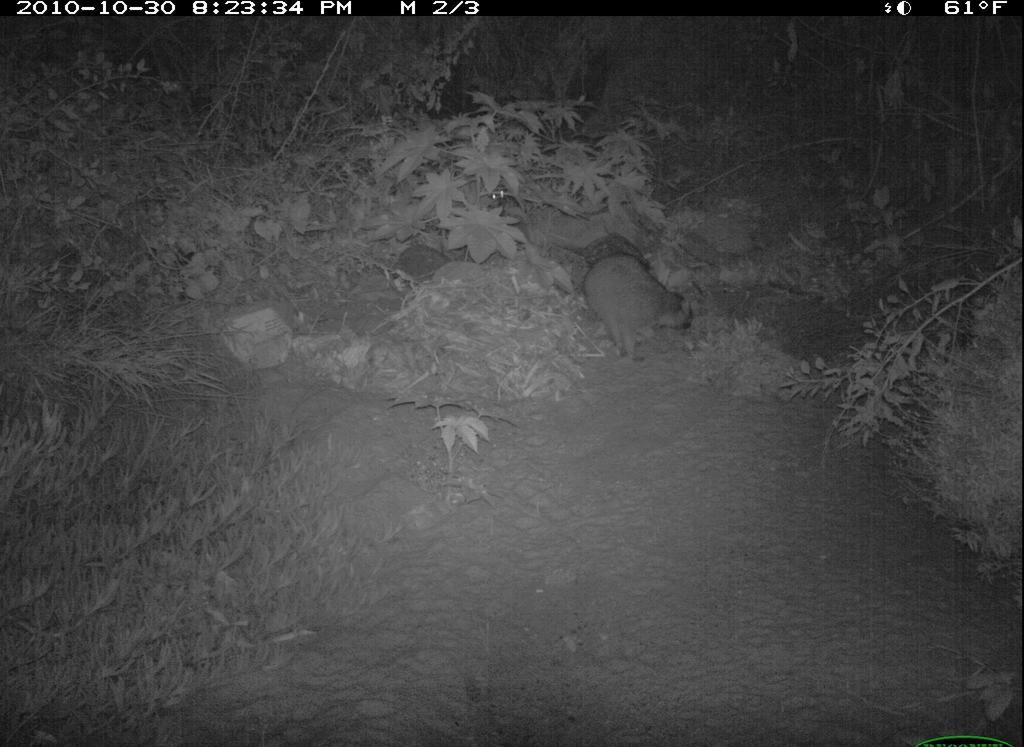raccoon: (575, 240, 703, 370)
